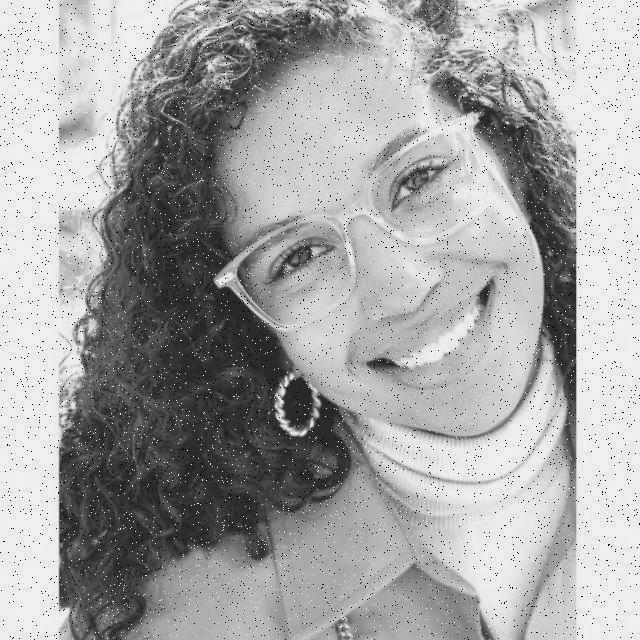real: (233, 92, 542, 443)
